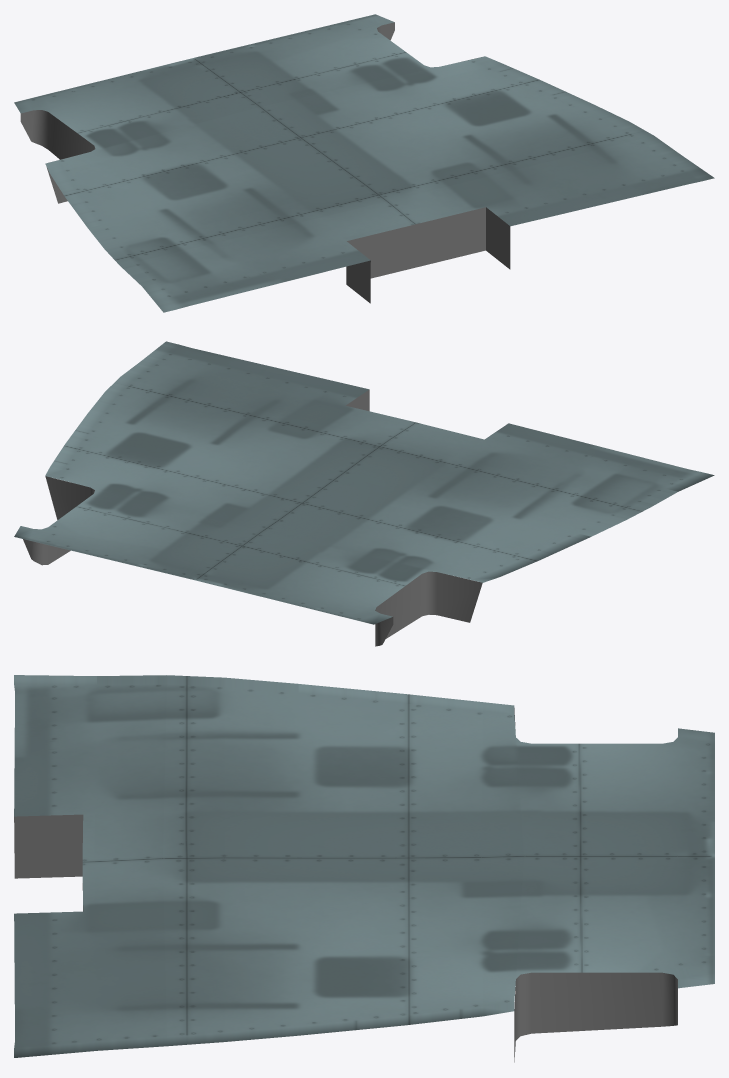
File: cockpitFloor.fbx
3 views of the same model, one above another, from view 1: azimuth 30°, elevation 25°; view 2: azimuth 150°, elevation 25°; view 3: azimuth 270°, elevation 25° (orthographic). The views are drawn at different scales.
Parts seen in each view (by area): view 1: 对象003; view 2: 对象003; view 3: 对象003.
Part boxes in pixels (x1=…): 对象003: x1=14, y1=14, x2=714, y2=312; 对象003: x1=14, y1=341, x2=714, y2=646; 对象003: x1=14, y1=675, x2=714, y2=1062.
Size of the model in its own units: 238 by 20.28 by 184.
